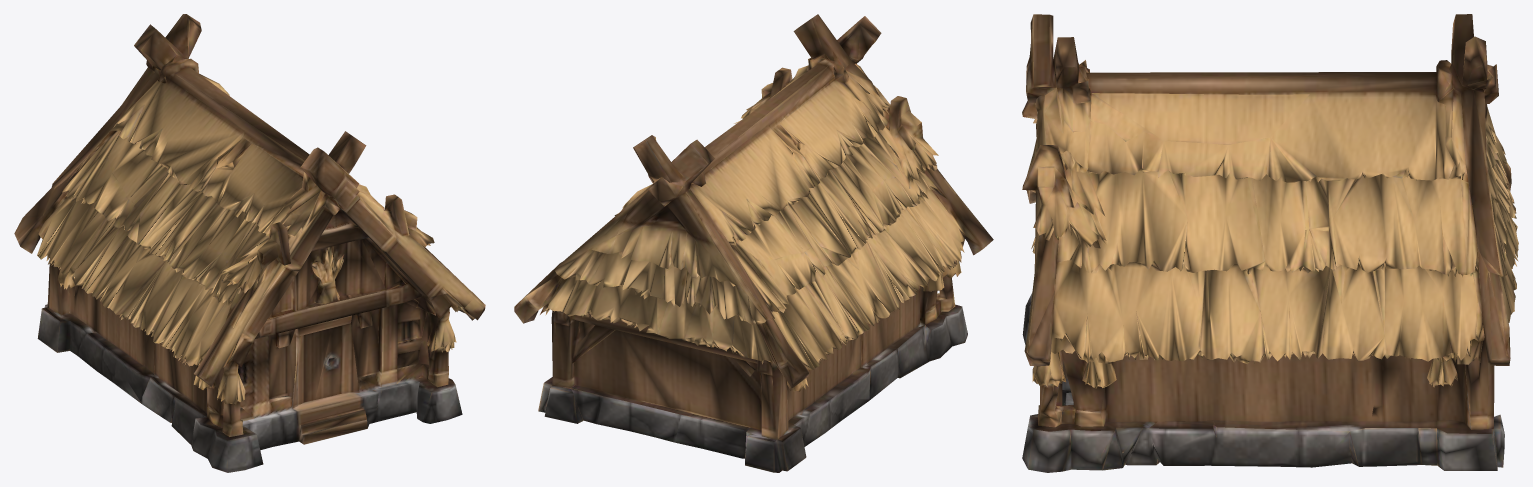
The model's file is farm-hut.glb.
3 renders of one model, left to right at view 1: azimuth 30°, elevation 25°; view 2: azimuth 150°, elevation 25°; view 3: azimuth 270°, elevation 25°, orthographic. The views are drawn at different scales.
Parts seen in each view (by area): view 1: Mesh_0; view 2: Mesh_0; view 3: Mesh_0.
Boxes of the visible parts, x1=… form: Mesh_0: x1=14, y1=14, x2=485, y2=472; Mesh_0: x1=514, y1=14, x2=993, y2=472; Mesh_0: x1=1022, y1=14, x2=1518, y2=472.
Bounding box in the file's own units: 4.08 × 4 × 4.83.
1 material, 1 textured.
